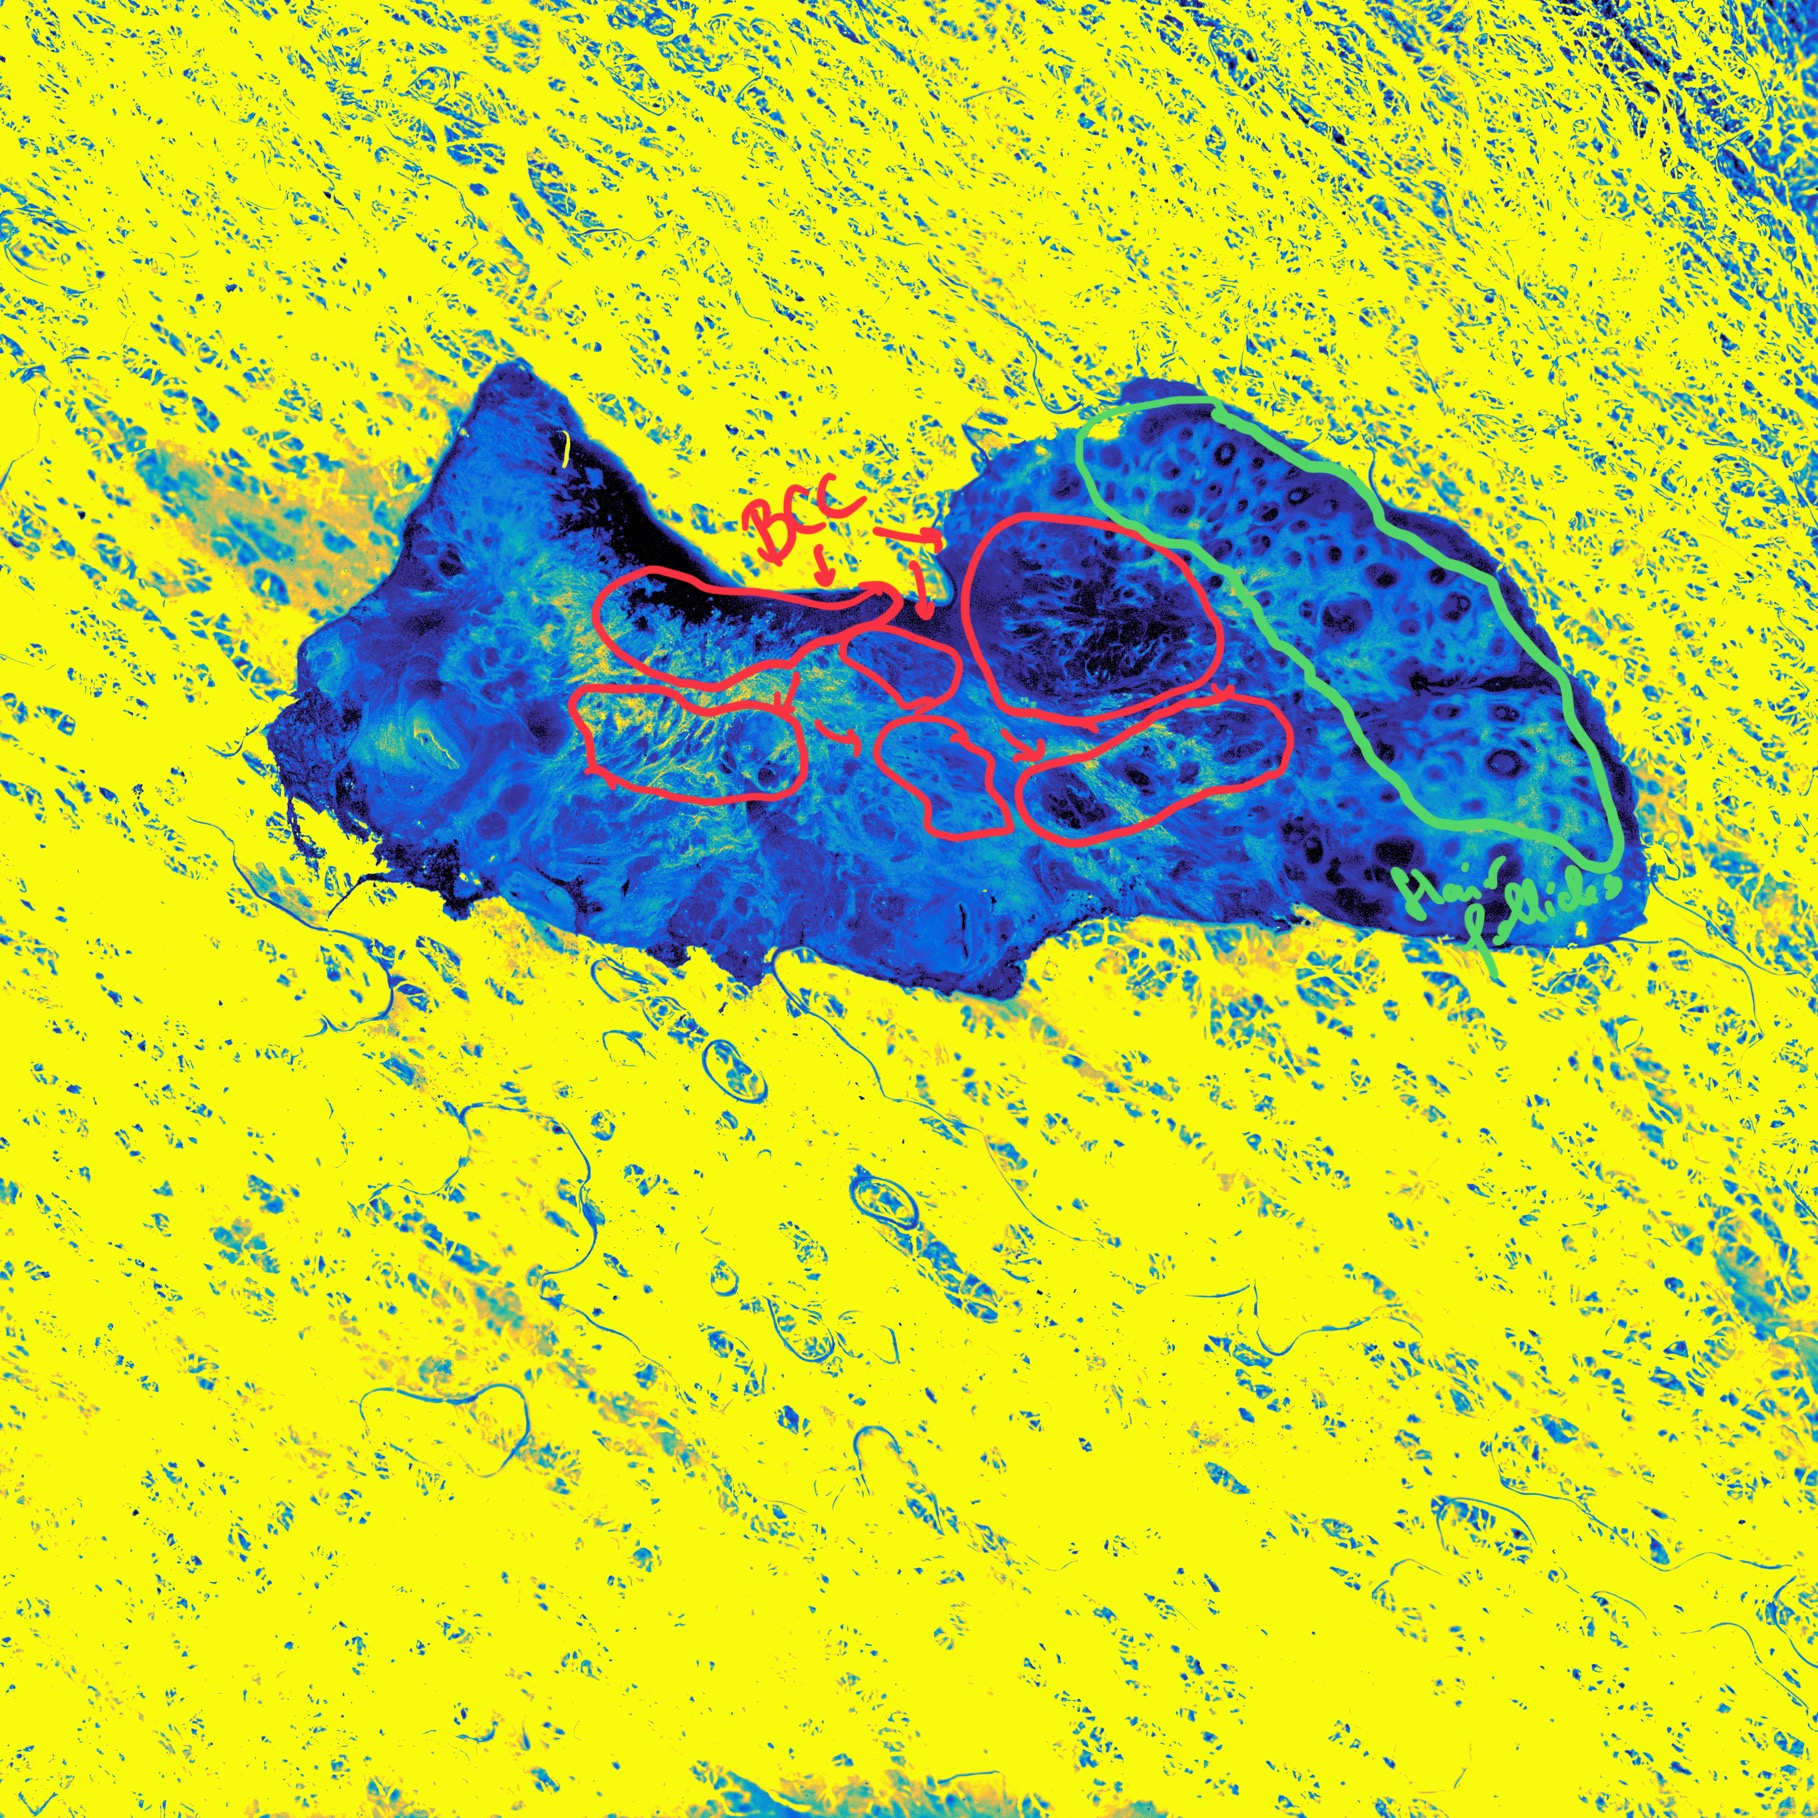BCC: (1214, 724, 1269, 771), (1012, 661, 1062, 699), (931, 771, 977, 811), (922, 748, 962, 787), (1120, 619, 1164, 653), (1002, 598, 1037, 638), (1124, 759, 1159, 797), (1075, 616, 1109, 653), (901, 734, 937, 767), (1080, 796, 1119, 827), (748, 719, 782, 753), (892, 648, 926, 683), (906, 658, 942, 689), (1170, 757, 1205, 789), (711, 631, 748, 661), (673, 734, 704, 767), (713, 744, 741, 781), (761, 608, 792, 639), (1117, 579, 1149, 609), (628, 609, 658, 639), (1077, 576, 1109, 604), (1174, 623, 1202, 654), (1042, 786, 1069, 819), (754, 761, 782, 791), (876, 639, 901, 669), (641, 743, 664, 772)
HF: (1477, 743, 1530, 781), (1485, 698, 1532, 728), (1435, 591, 1477, 624), (1425, 698, 1472, 724), (1244, 533, 1275, 564), (1195, 474, 1227, 504), (1210, 440, 1239, 471), (1250, 499, 1284, 526), (1393, 616, 1423, 644), (1295, 593, 1319, 628), (1317, 488, 1342, 519), (1159, 458, 1185, 484), (1284, 483, 1310, 509), (1349, 541, 1372, 568), (1287, 516, 1314, 538), (1255, 588, 1277, 614), (1174, 423, 1197, 446), (1250, 469, 1274, 493), (1245, 451, 1269, 474), (1423, 564, 1447, 588)
